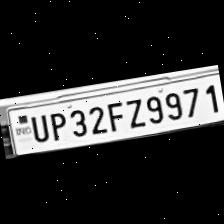1: (198, 80, 222, 115)
2: (84, 100, 108, 136)
3: (64, 104, 90, 140)
7: (178, 84, 202, 120)
9: (140, 91, 166, 126), (160, 88, 183, 122)
F: (103, 98, 127, 134)
P: (44, 108, 68, 142)
U: (25, 111, 50, 145)
Z: (121, 95, 146, 131)
